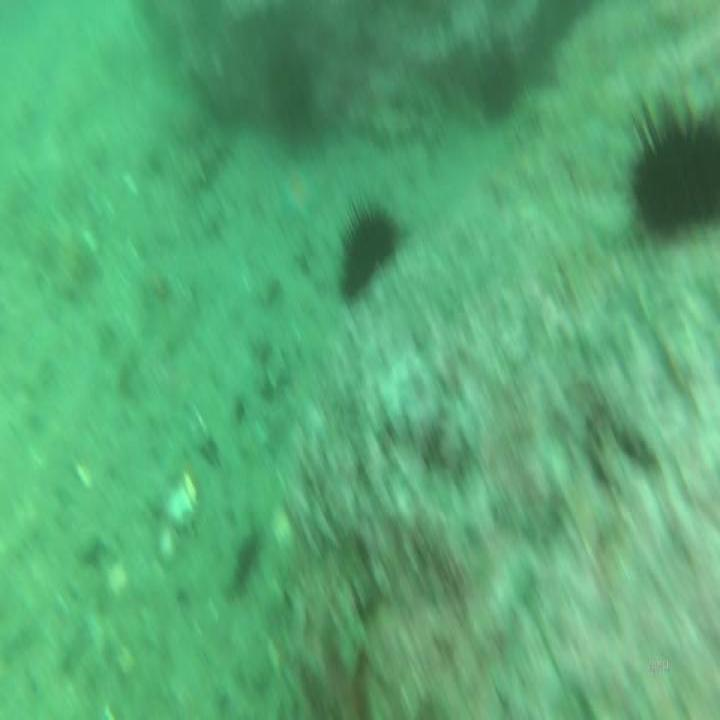echinus: (633, 122, 720, 236), (264, 46, 311, 130), (345, 213, 395, 283), (481, 46, 516, 112)
